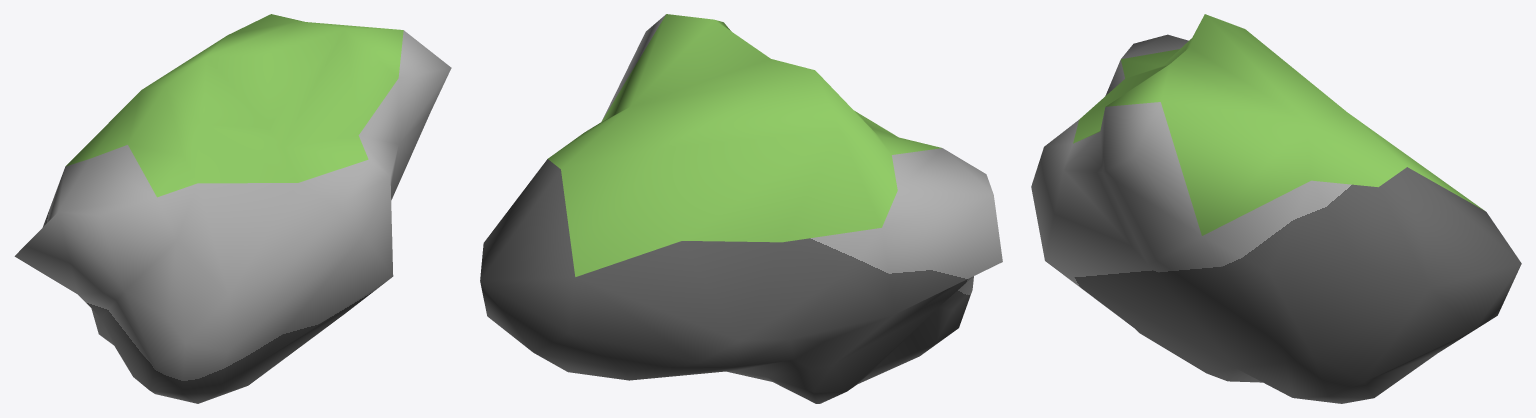
The model's file is ForestStone2.fbx.
3 views of the same model, side by side, from view 1: azimuth 30°, elevation 25°; view 2: azimuth 150°, elevation 25°; view 3: azimuth 270°, elevation 25° (orthographic). The views are drawn at different scales.
Visible parts, largest first — view 1: Stone.007; view 2: Stone.007; view 3: Stone.007.
Part boxes in pixels (<box>): Stone.007: <box>14,14,451,403</box>; Stone.007: <box>480,14,1002,403</box>; Stone.007: <box>1031,14,1521,403</box>.
Size of the model in its own units: 6.46 by 4.75 by 6.31.
Materials: 1 (1 with a texture image).
